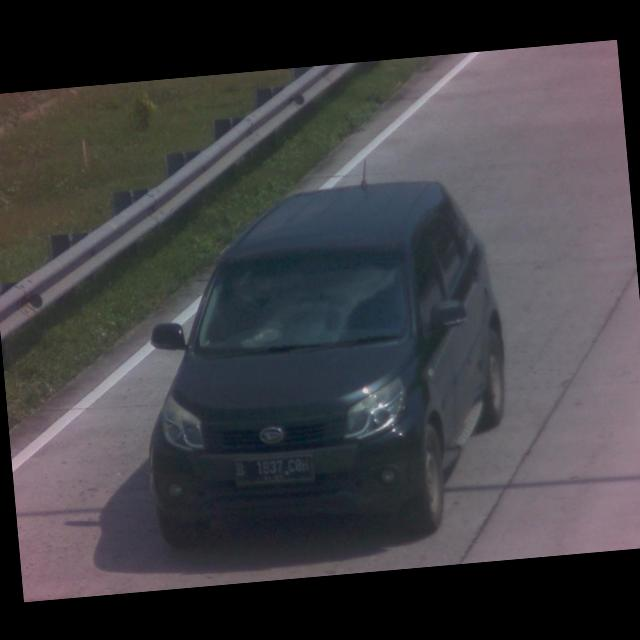plate: (231, 449, 317, 488)
